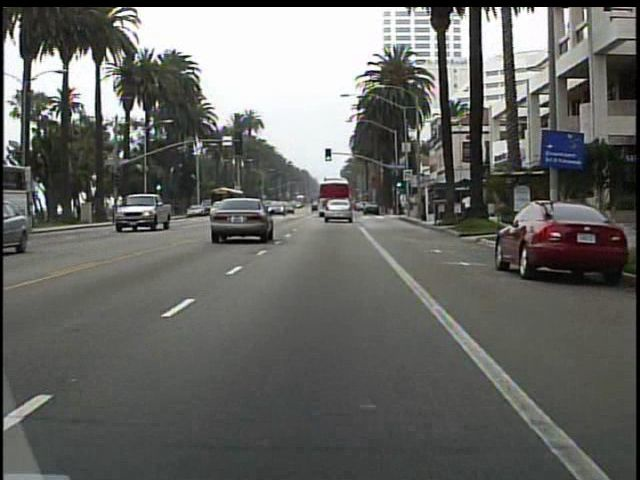person: (459, 191, 475, 222)
